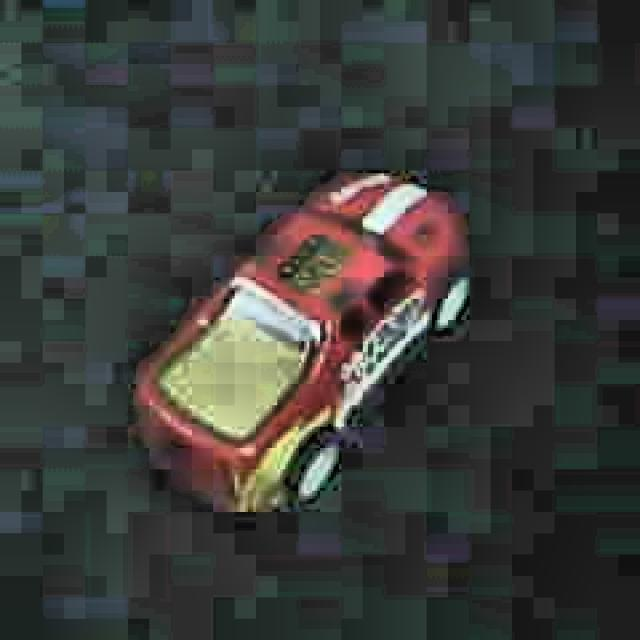car: (130, 163, 480, 517)
